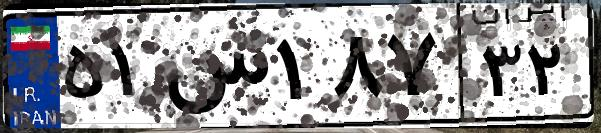1: (270, 28, 330, 110), (110, 28, 158, 98)
2: (525, 38, 570, 115)
3: (475, 38, 525, 113)
5: (57, 26, 110, 100)
7: (385, 28, 445, 110)
8: (330, 28, 385, 110)
س: (158, 20, 270, 120)
